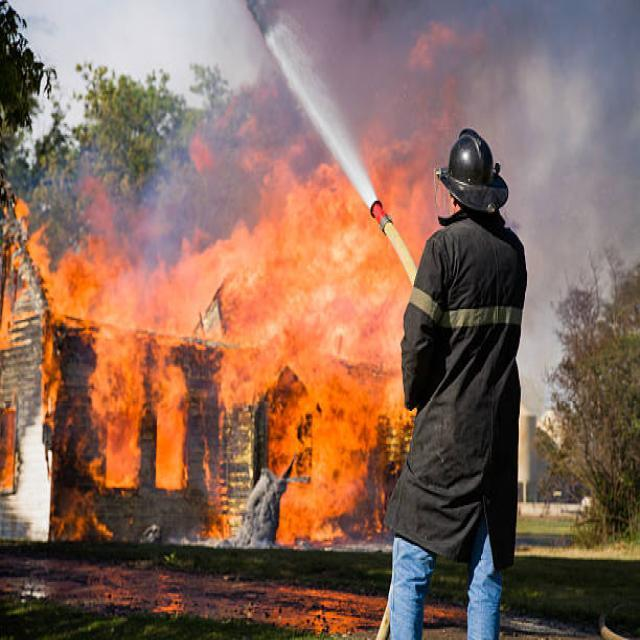Fire: (22, 202, 364, 532), (350, 243, 400, 469), (386, 130, 430, 222)
Smoke: (380, 1, 640, 120), (510, 113, 640, 282)
